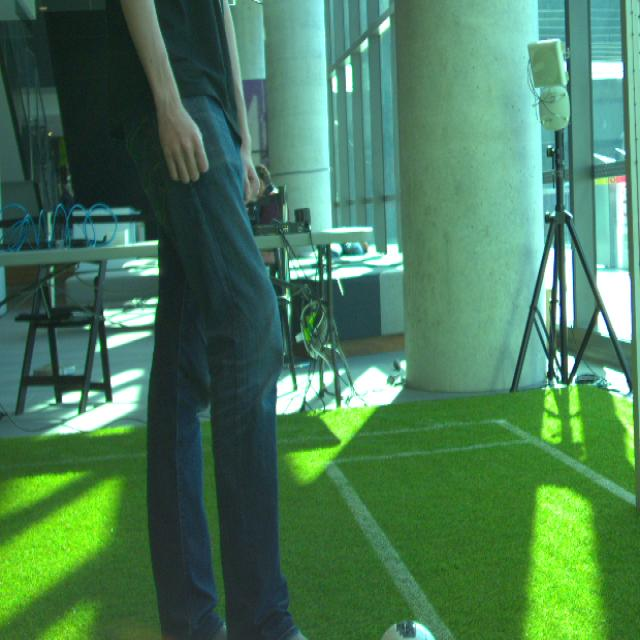ball: (376, 616, 438, 640)
